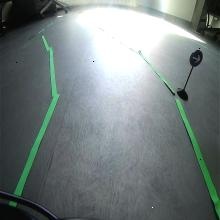right: (189, 48, 203, 67)
